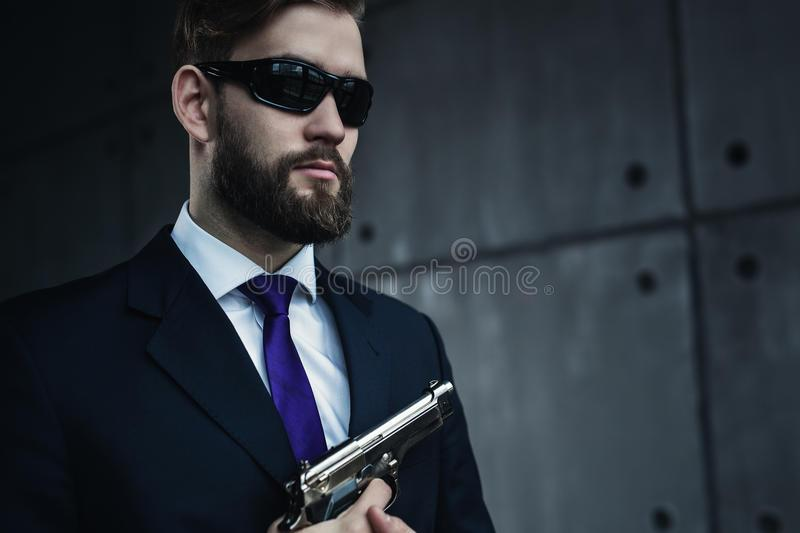criminal: (0, 0, 496, 533)
weapon: (276, 376, 465, 533)
